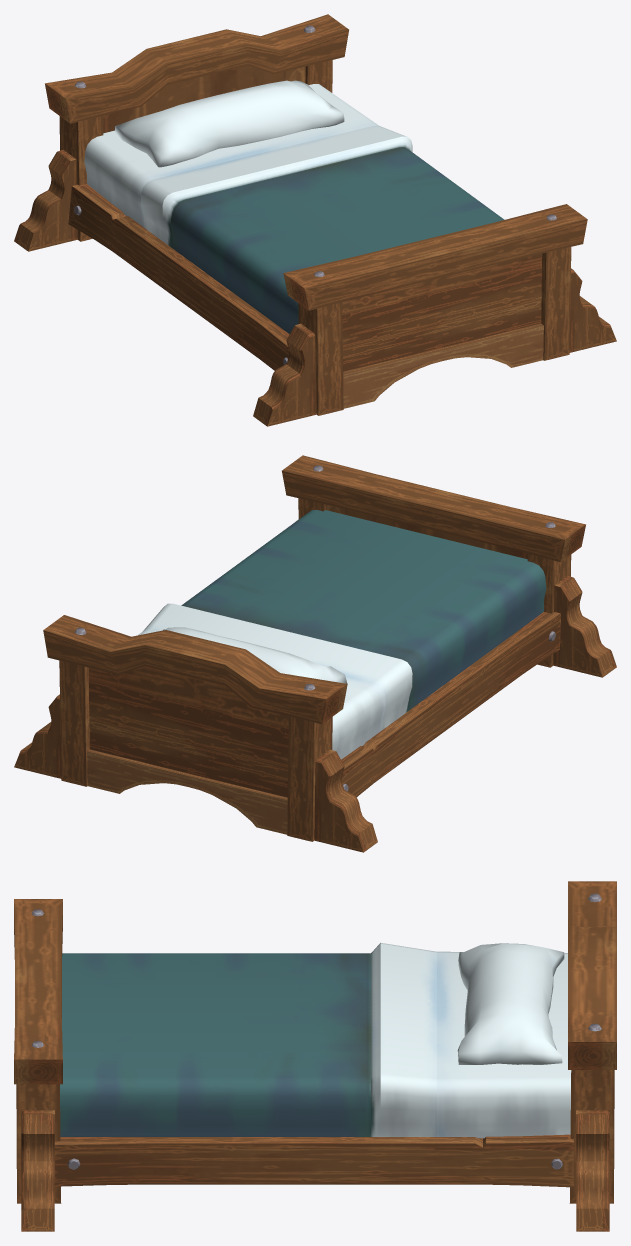
3 views of the same model, one above another, from view 1: azimuth 30°, elevation 25°; view 2: azimuth 150°, elevation 25°; view 3: azimuth 270°, elevation 25° (orthographic). The views are drawn at different scales.
Parts seen in each view (by area): view 1: 9a2512b436b63bb7ea06e287302379ec7cd545afa3634b62d51eac88505a; view 2: 9a2512b436b63bb7ea06e287302379ec7cd545afa3634b62d51eac88505a; view 3: 9a2512b436b63bb7ea06e287302379ec7cd545afa3634b62d51eac88505a.
Boxes of the visible parts, bbox=[...] form: 9a2512b436b63bb7ea06e287302379ec7cd545afa3634b62d51eac88505a: bbox=[14, 14, 616, 426]; 9a2512b436b63bb7ea06e287302379ec7cd545afa3634b62d51eac88505a: bbox=[14, 455, 616, 852]; 9a2512b436b63bb7ea06e287302379ec7cd545afa3634b62d51eac88505a: bbox=[14, 881, 616, 1231].
Size of the model in its own units: 1.88 by 0.8051 by 2.41.
3 materials, 3 textured.
